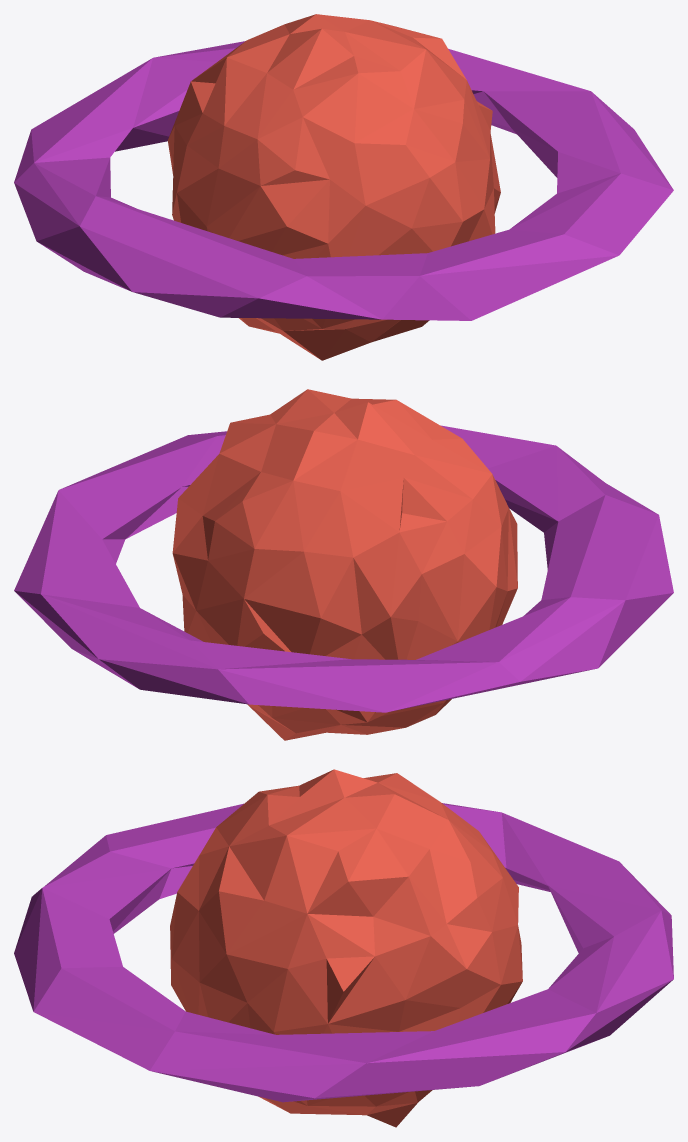
Rendered from ring_planet1.fbx.
3 renders of one model, top to bottom at view 1: azimuth 30°, elevation 25°; view 2: azimuth 150°, elevation 25°; view 3: azimuth 270°, elevation 25°, orthographic. The views are drawn at different scales.
Visible parts, largest first — view 1: ring_planet1; view 2: ring_planet1; view 3: ring_planet1.
Boxes of the visible parts, x1,y1,x2,y2 form: ring_planet1: (14, 14, 673, 360); ring_planet1: (14, 389, 673, 740); ring_planet1: (14, 769, 673, 1127).
Bounding box in the file's own units: 361 × 197 × 355.
